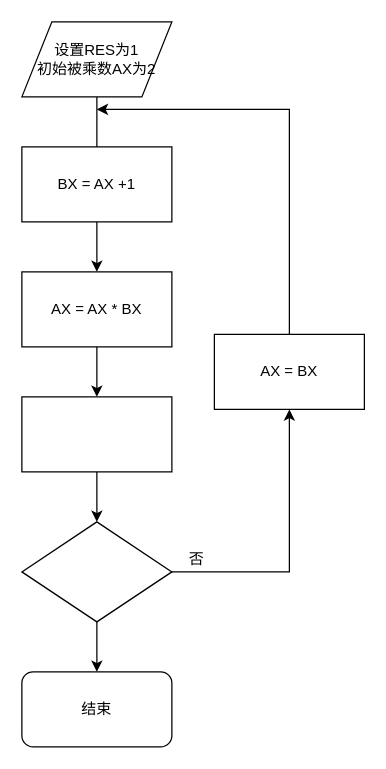
Image size: 386x769. Some labels were removed from this diagram. Here are the shapes that lost their labels. From the top down, the centre of each, then its label:
At (96,434): "RES = RES + AX".
At (96,571): "RES > 200?".
